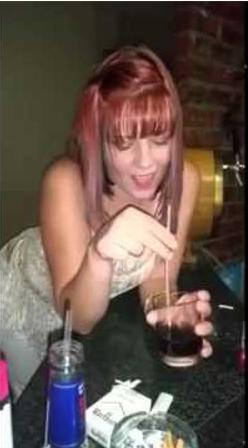Drunk: (103, 115, 173, 200)
